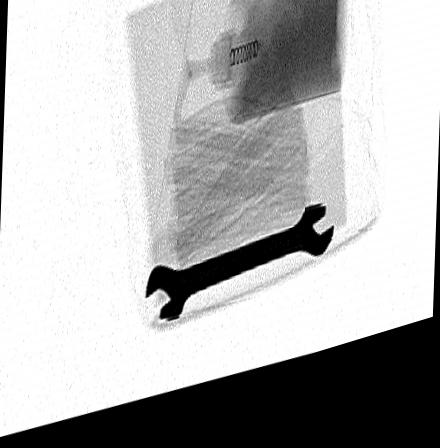Wrench: (142, 221, 336, 331)
